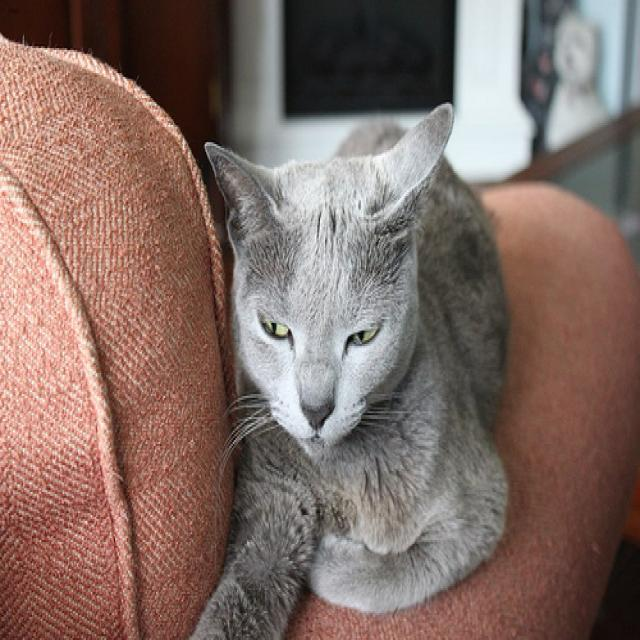Russian_Blue: (197, 98, 459, 457)
